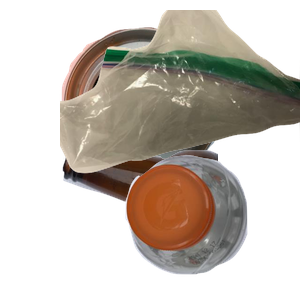glass: (60, 142, 300, 300)
metal: (59, 10, 273, 189)
plastic: (123, 152, 300, 300)
trash: (60, 10, 300, 176)
